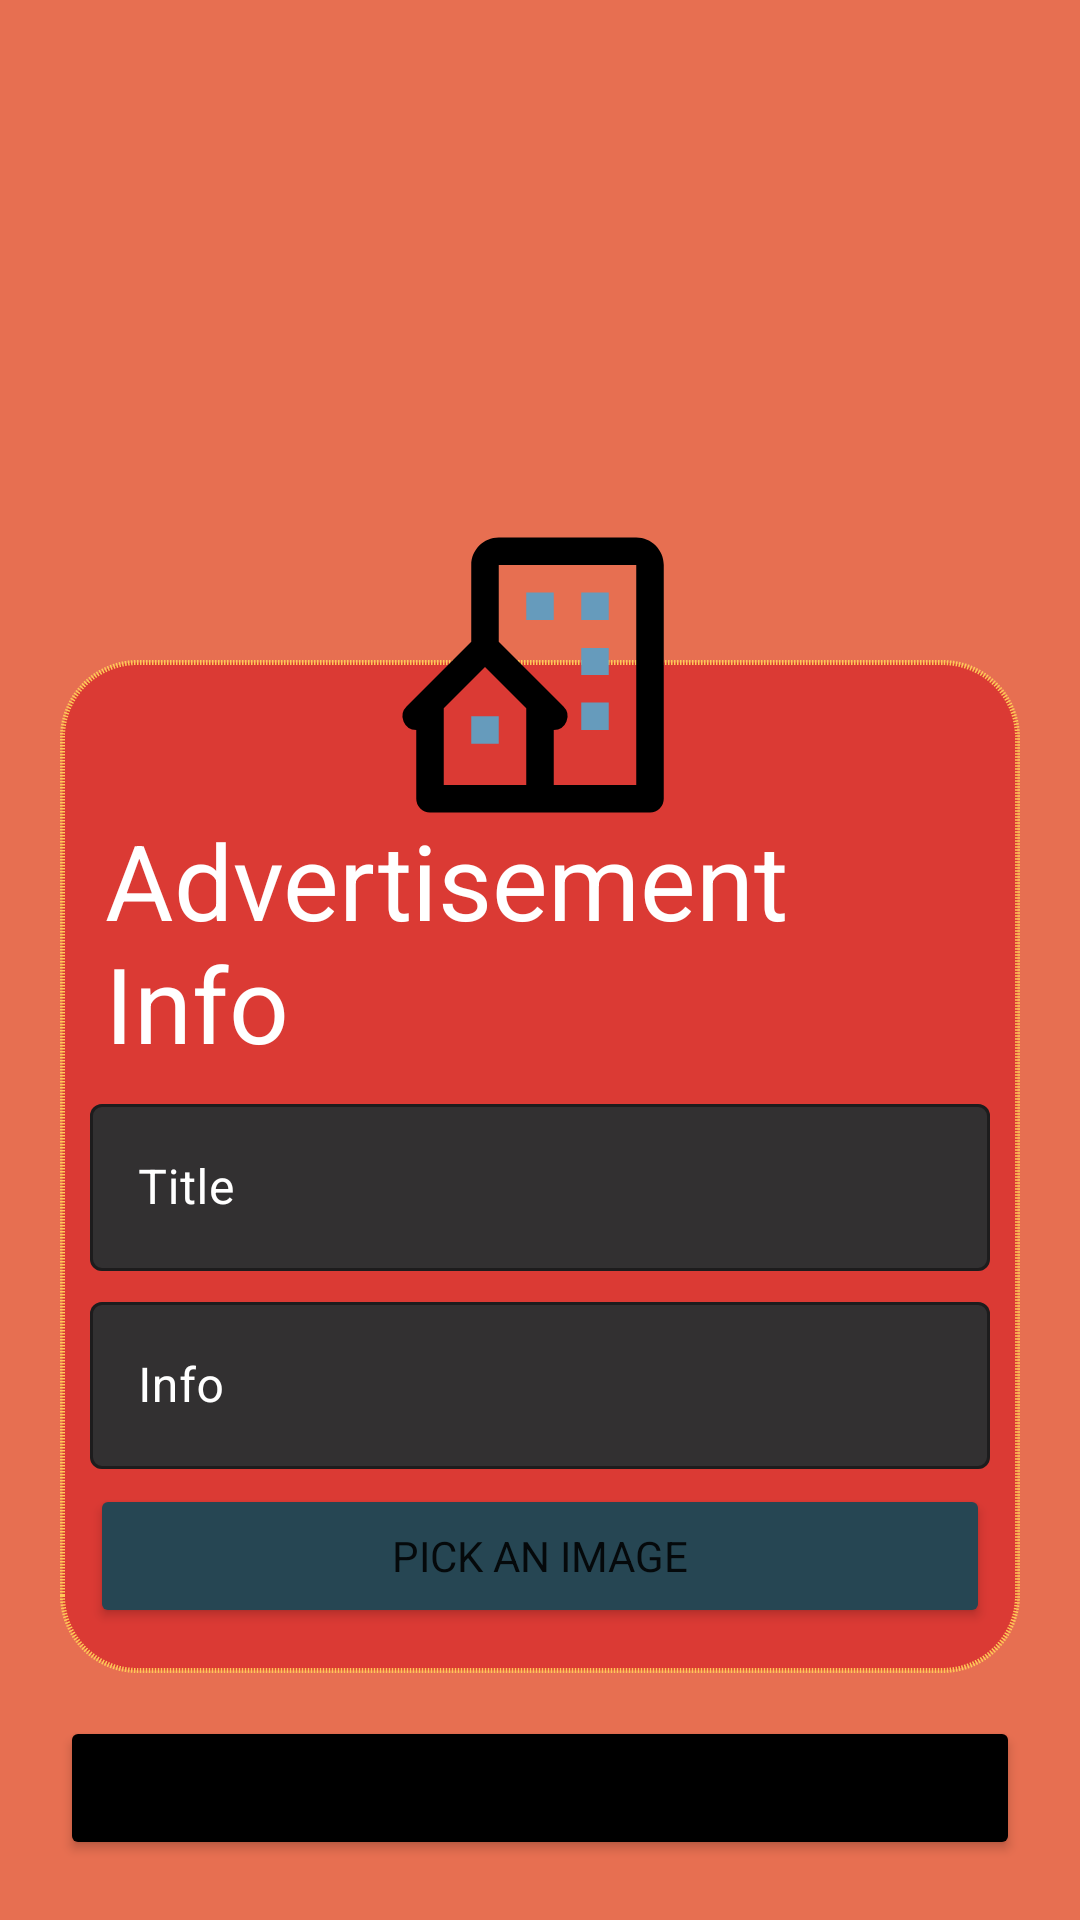

Screen size 1080w x 1920h. Icon name, then its center in pixels as (x=x, y=y):
house: (x=540, y=675)
